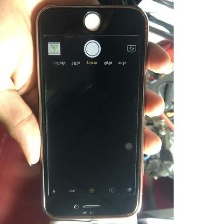phone: (31, 0, 151, 222)
